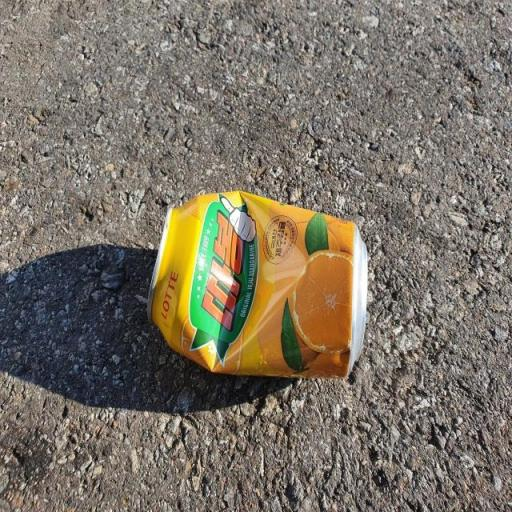metal: (126, 170, 392, 403)
